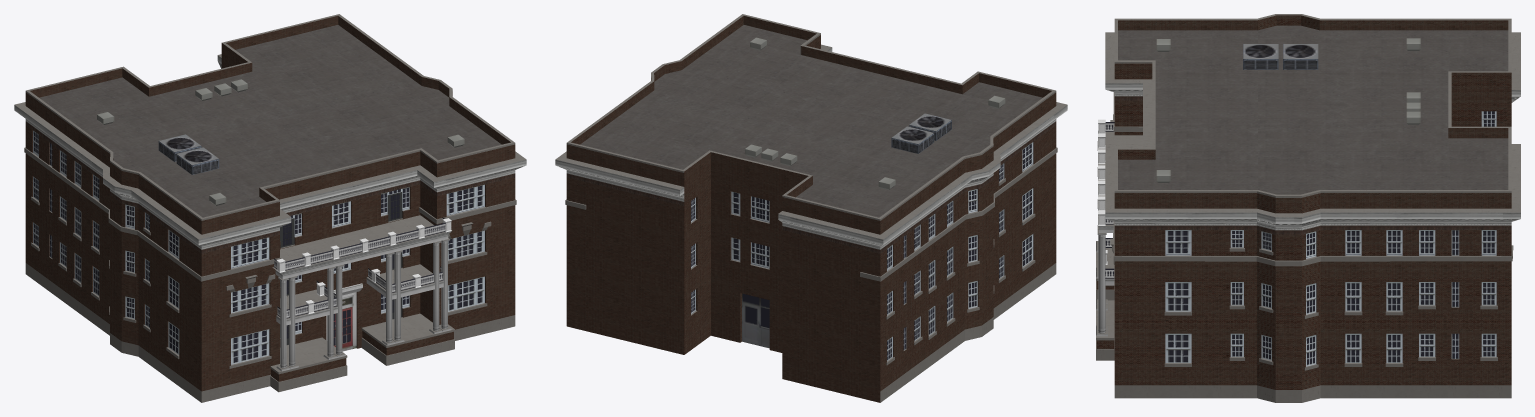
File: 2800monument.obj
3 renders of one model, left to right at view 1: azimuth 30°, elevation 25°; view 2: azimuth 150°, elevation 25°; view 3: azimuth 270°, elevation 25°, orthographic. The views are drawn at different scales.
Visible parts, largest first — view 1: Cube; view 2: Cube; view 3: Cube.
Boxes of the visible parts, x1,y1,x2,y2 form: Cube: [14, 14, 526, 402]; Cube: [555, 14, 1067, 402]; Cube: [1096, 14, 1520, 402].
Bounding box in the file's own units: 2400 × 1225 × 2270.
